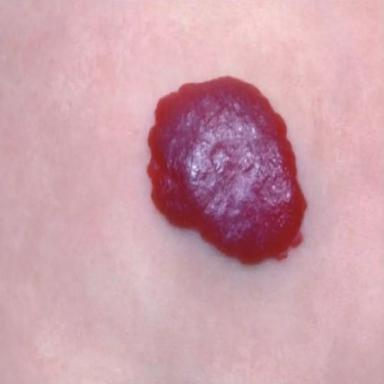Hemangiome: (148, 77, 306, 262)
